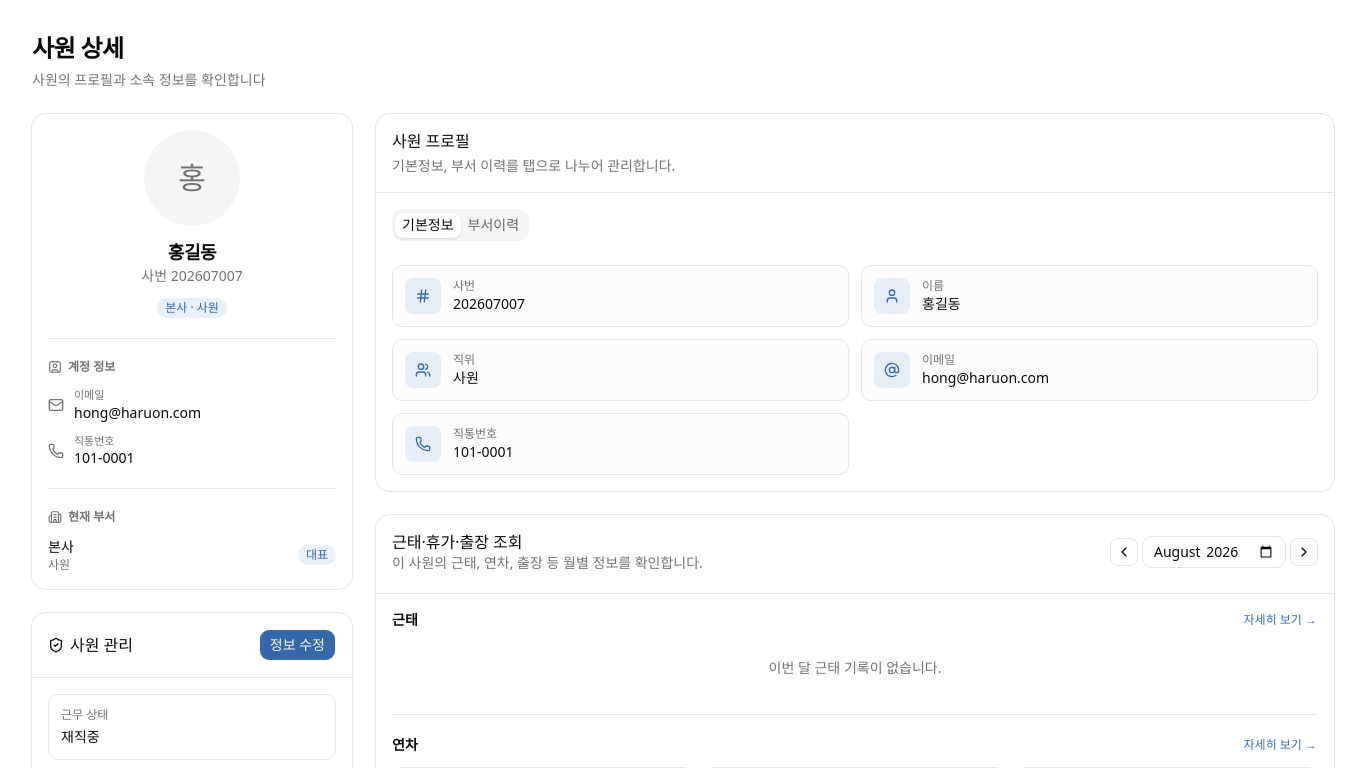
Scenario: EmployeeDetailPage - 사원 관리 섹션 역할별 렌더 › DEPT_MANAGER 역할 뷰어(HR 아님)는 DeptManagedInfoDialog용 폼 필드가 나타난다
The width and height of the screenshot is (1366, 768).
Expected: the text "사원 관리" is shown, top-left (48, 634), bottom-right (133, 656)
Click the button "정보 수정" at point(297, 645), box top-left (259, 629), bottom-right (336, 661)
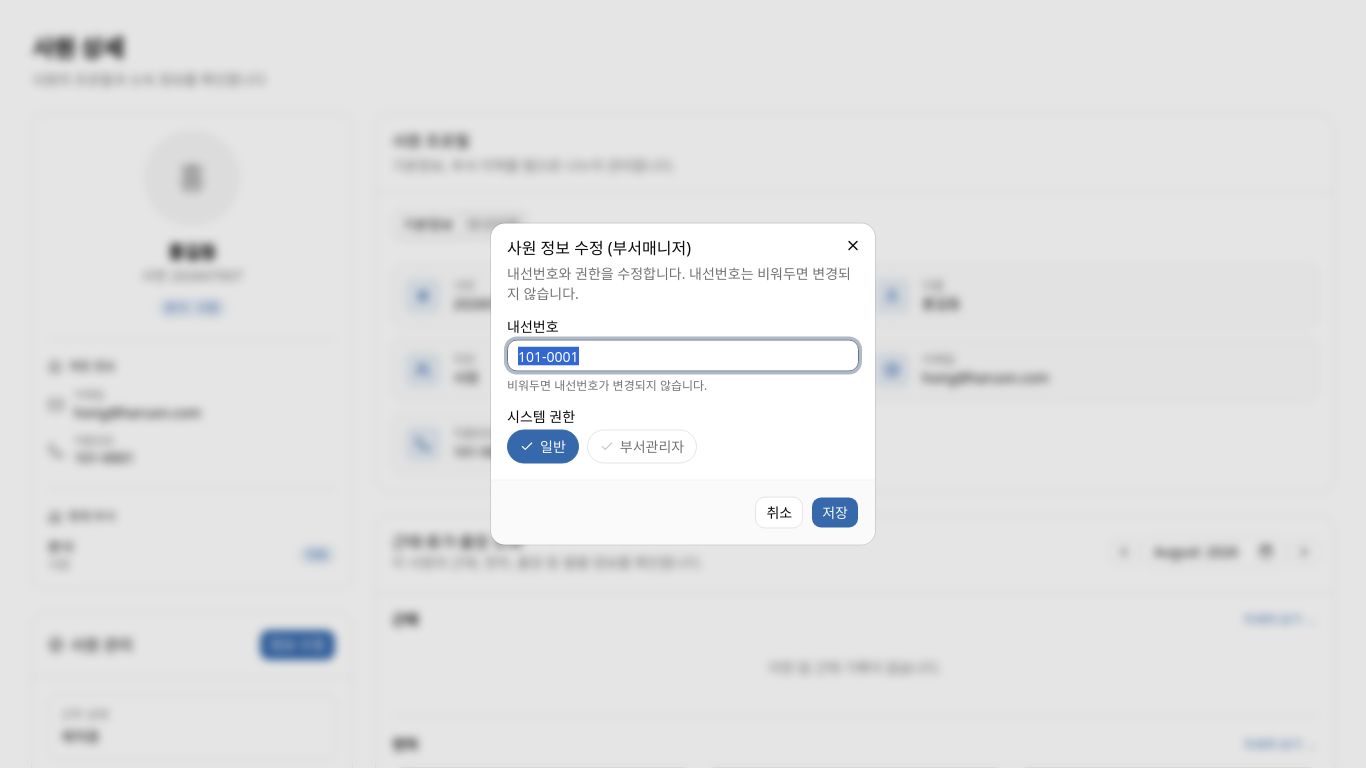
Result: the heading "사원 정보 수정 (부서매니저)" is shown at top-left (507, 236), bottom-right (691, 258)
